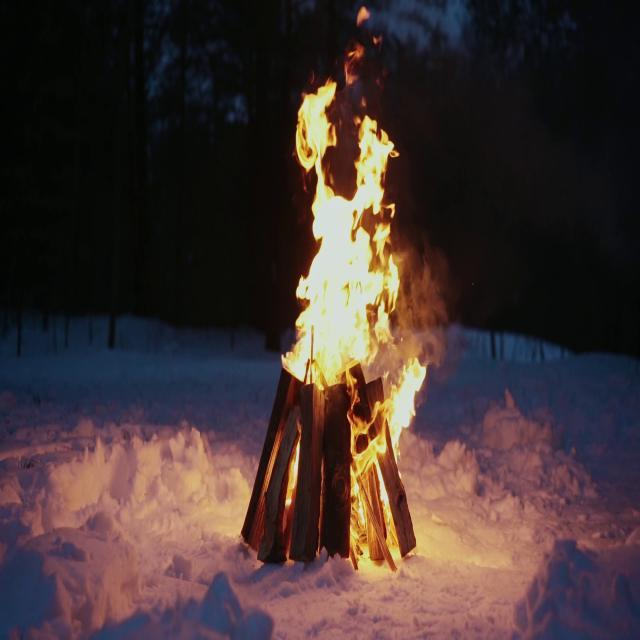Fire: (279, 52, 427, 548)
